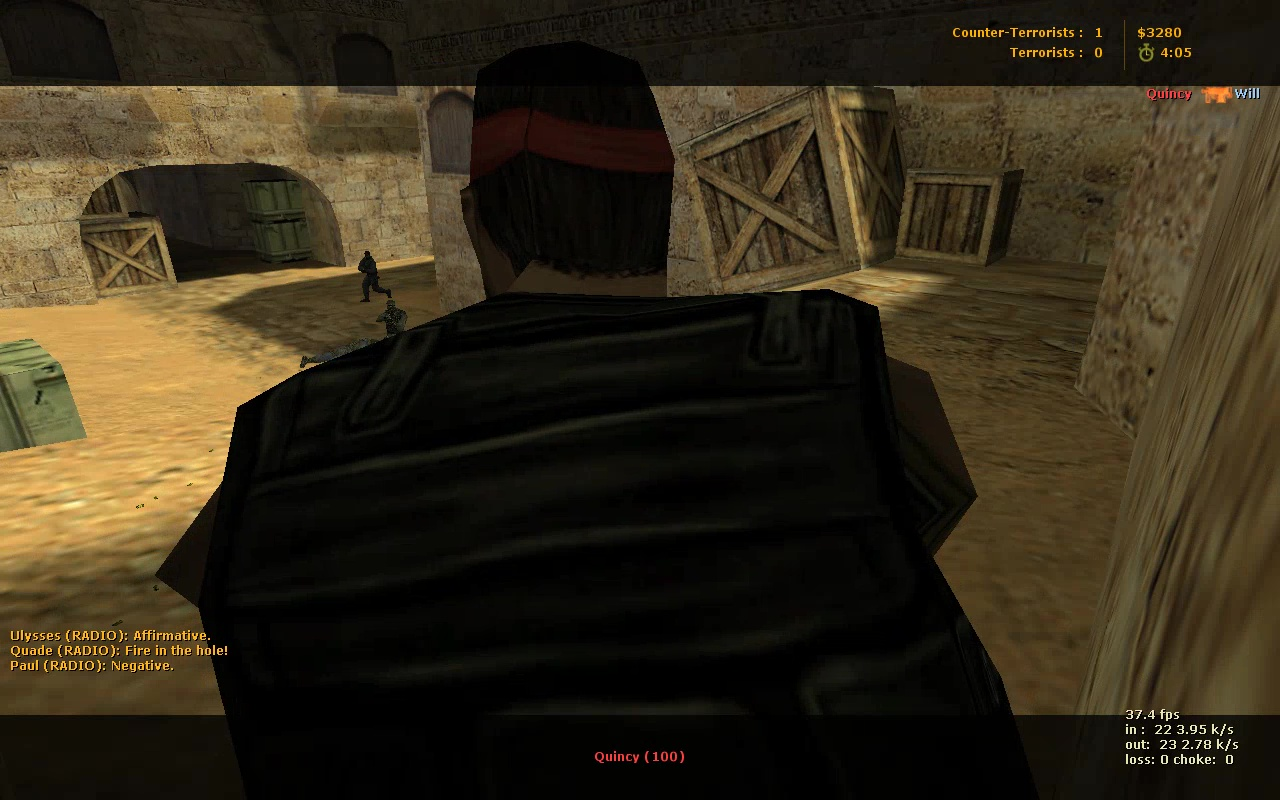ct: (355, 249, 396, 303), (374, 300, 411, 335)
